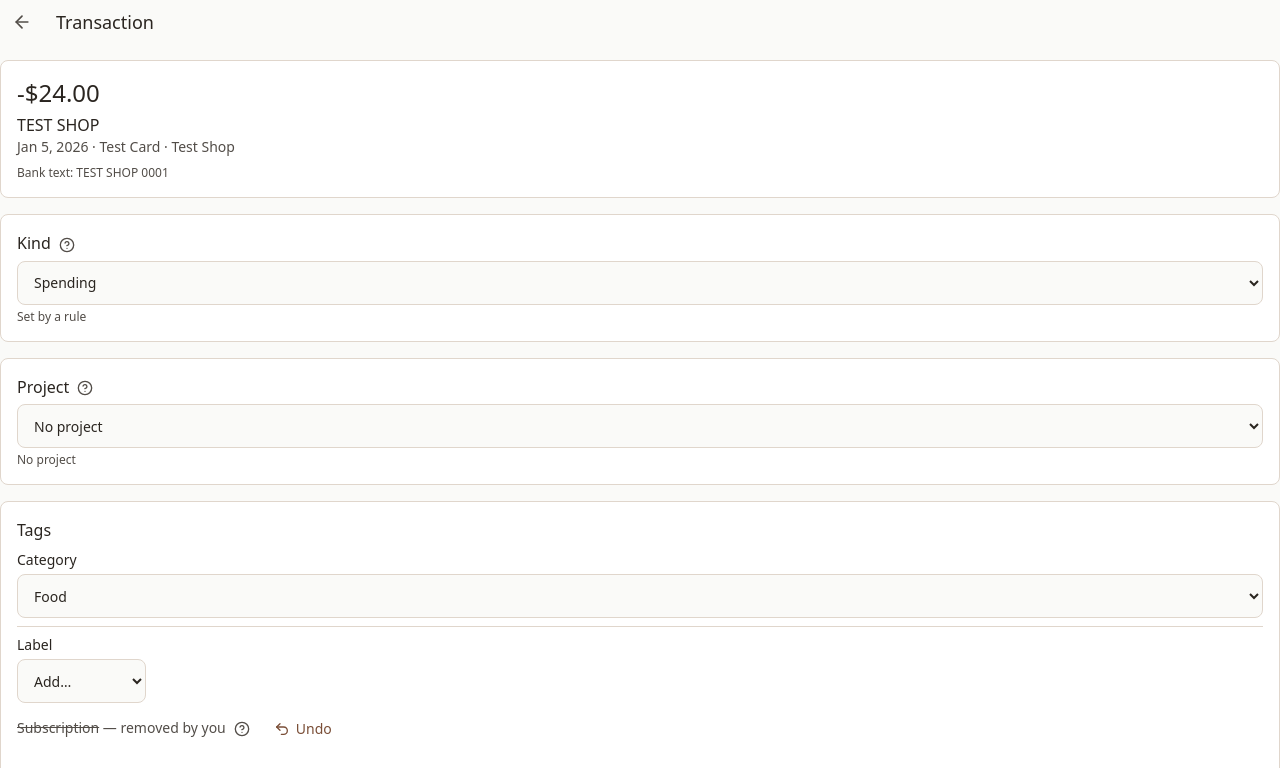
after a hand change offers Always do this, which updates the existing rule by default
Select "Pets" in the dropdown named "Category". click: (640, 596)
box: [17, 574, 1263, 618]
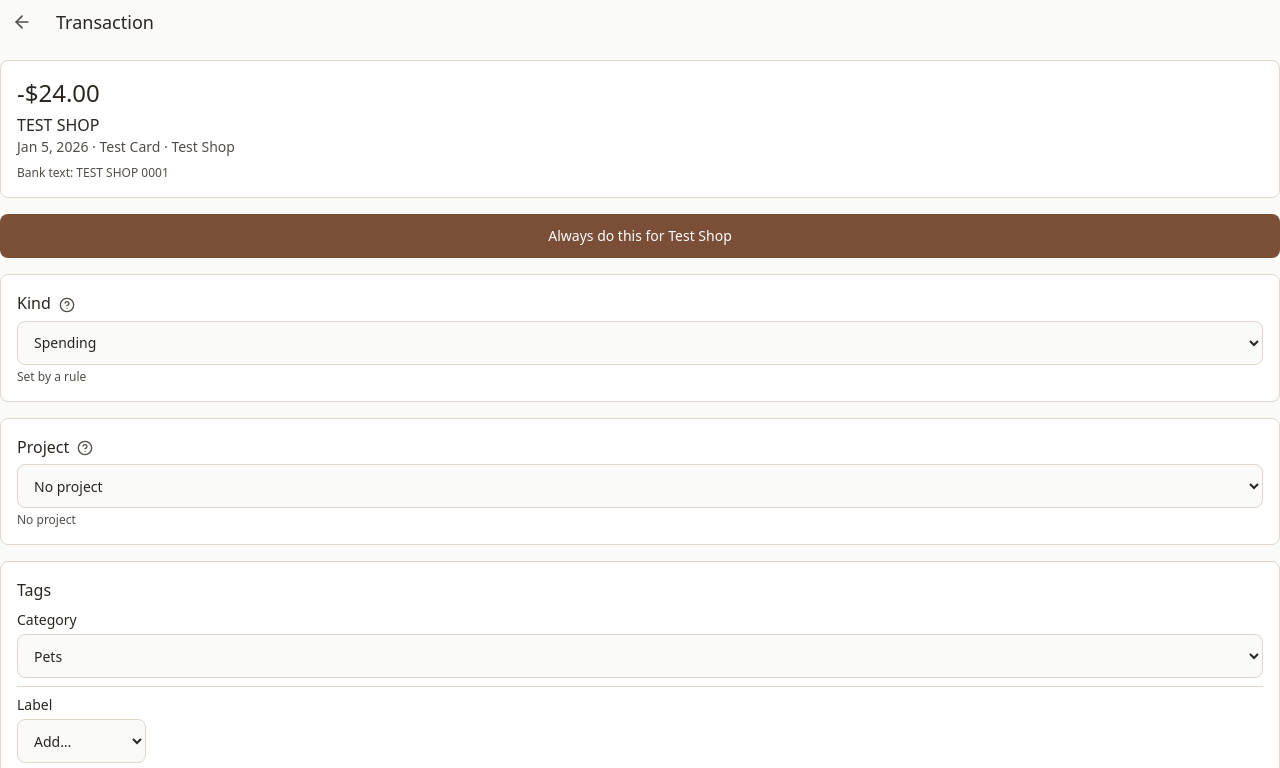
Click the button "Always do this for Test Shop". click: (640, 236)
box: [0, 214, 1279, 258]
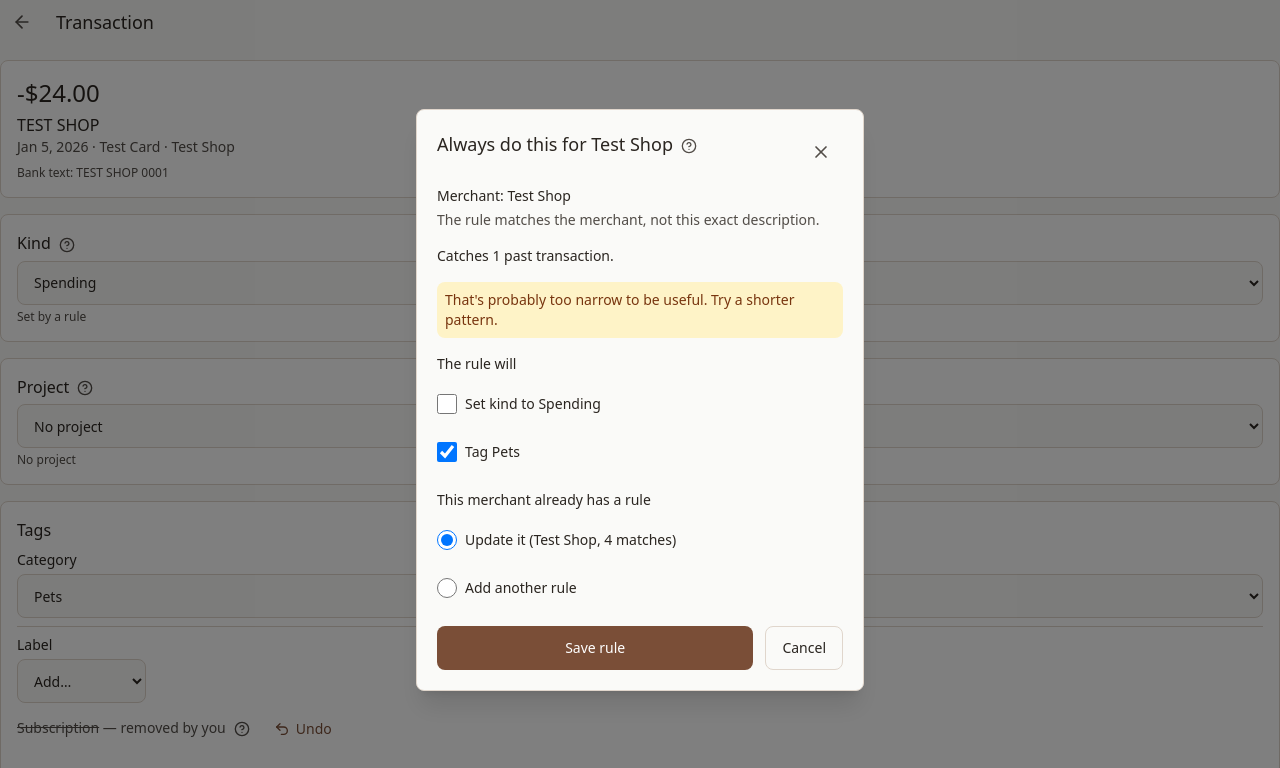
Expected: the text "That's probably too narrow to be useful. Try a shorter pattern." is shown, [437, 282, 843, 338]
Expected: the radio button labelled "Update it (Test Shop, 4 matches)" is checked, [437, 530, 457, 550]
Click the button "Save rule". click: (595, 648)
box: [437, 626, 753, 670]
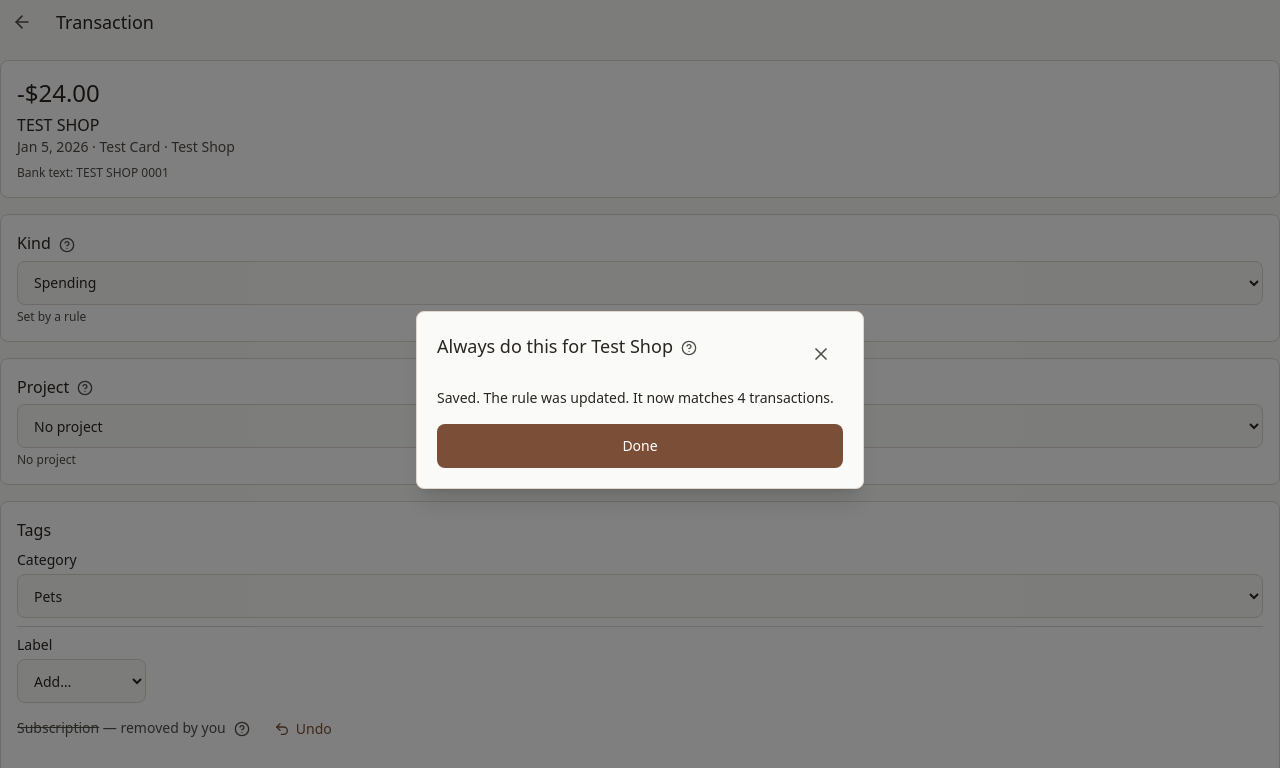
Expected: the text "Saved. The rule was updated. It now matches 4 transactions." is shown, [437, 388, 843, 408]
